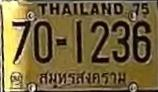0: (34, 19, 52, 62)
1: (76, 19, 82, 62)
2: (90, 20, 108, 62)
3: (111, 20, 129, 62)
6: (132, 20, 150, 62)
7: (11, 19, 30, 62)
SKM: (35, 67, 129, 89)
